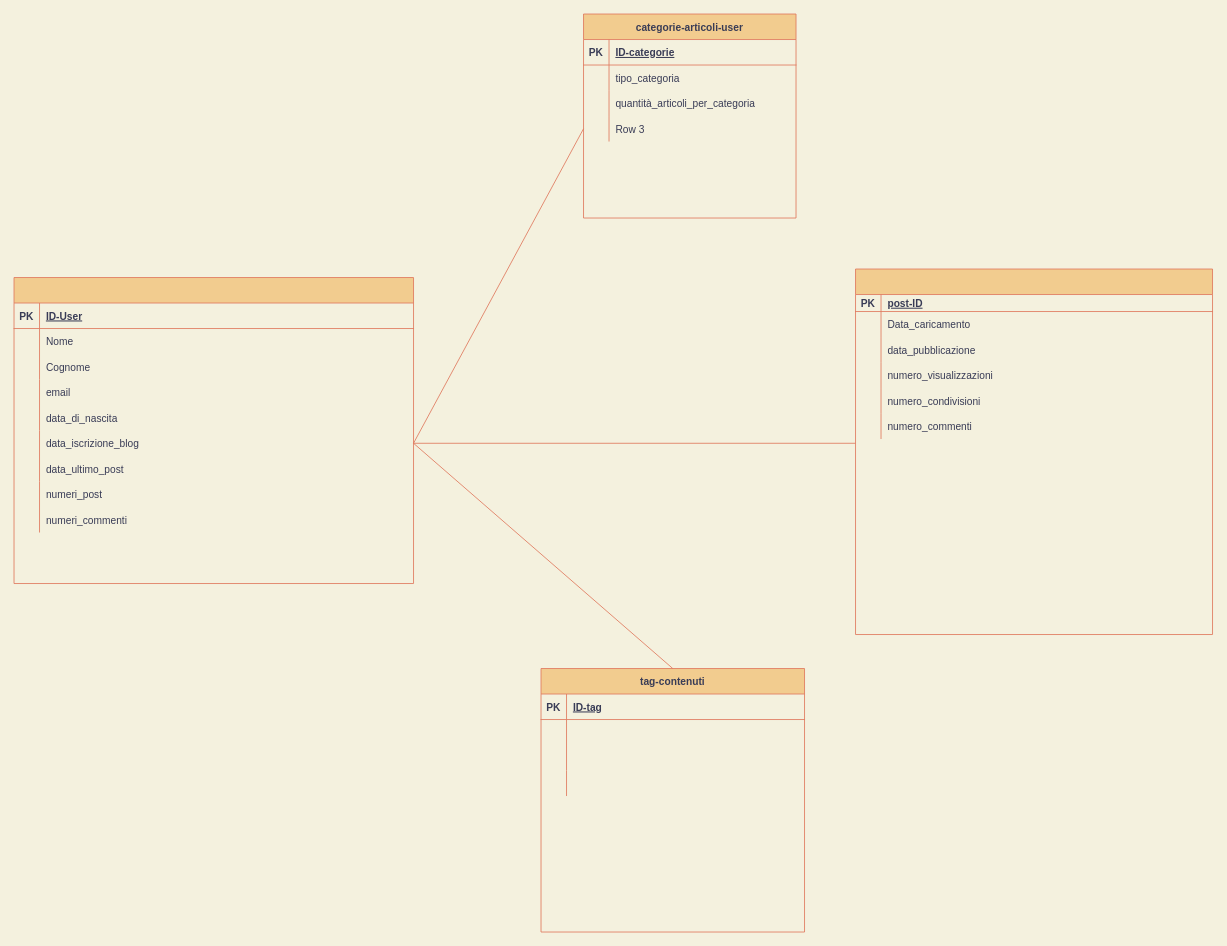
This 1227x946 diagram has some shape labels left out. Here are the shapes that lost their labels. From the top down, the box of each, then its label:
(13, 277, 414, 584): User-blog
(855, 268, 1213, 635): Articoli-user
